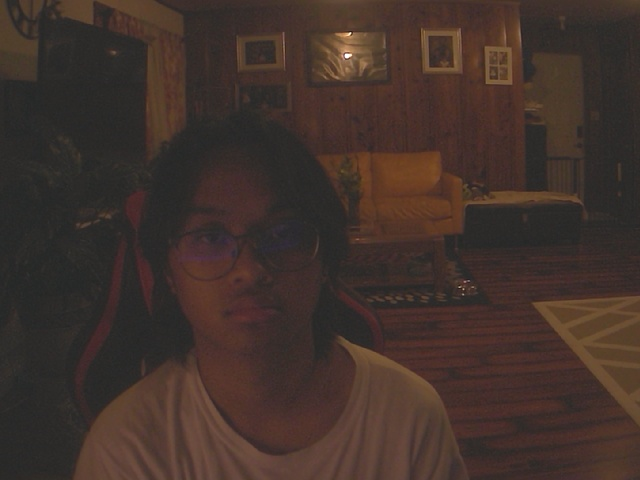neutral: (133, 109, 349, 376)
